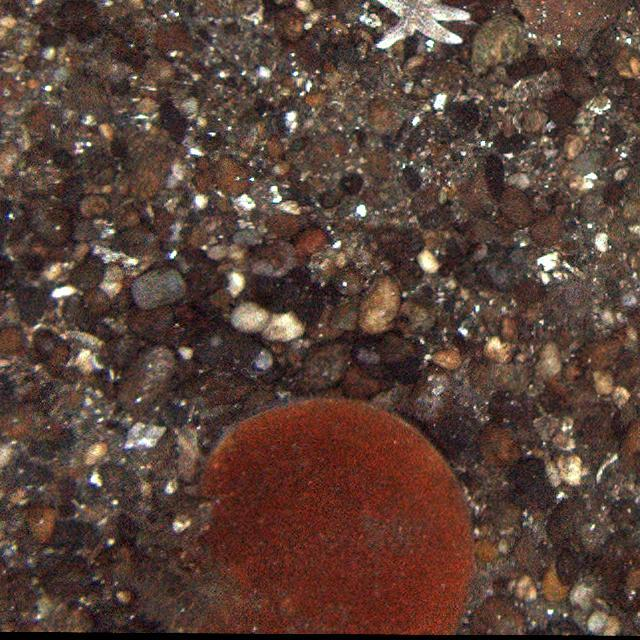scallop: (198, 398, 472, 638)
